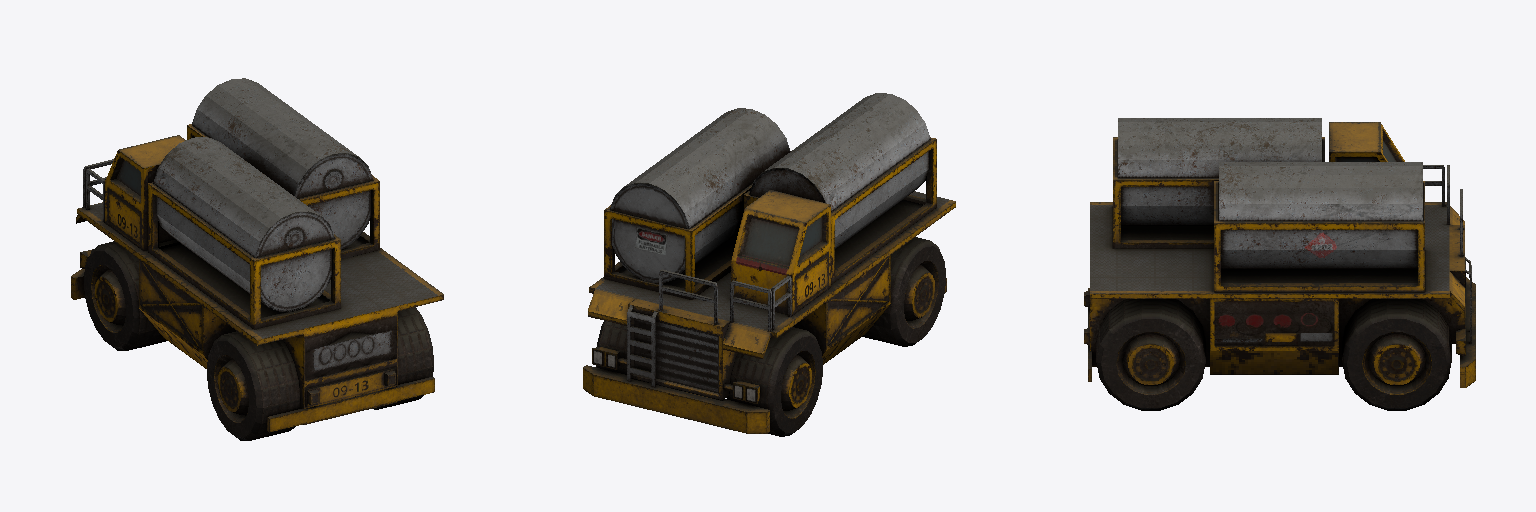
3 views of the same model, side by side, from view 1: azimuth 30°, elevation 25°; view 2: azimuth 150°, elevation 25°; view 3: azimuth 270°, elevation 25° (orthographic).
Parts seen in each view (by area): view 1: airextruck_Untitled.001; view 2: airextruck_Untitled.001; view 3: airextruck_Untitled.001.
Part boxes in pixels (x1,y1,x2,y2): airextruck_Untitled.001: (71,78,443,440); airextruck_Untitled.001: (583,93,955,436); airextruck_Untitled.001: (1084,118,1475,410).
Size of the model in its own units: 3.54 by 4.09 by 6.41.
Materials: 1 (1 with a texture image).